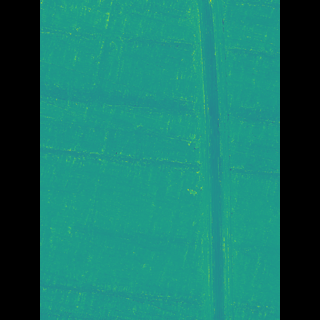Loch: (180, 0, 217, 320)
